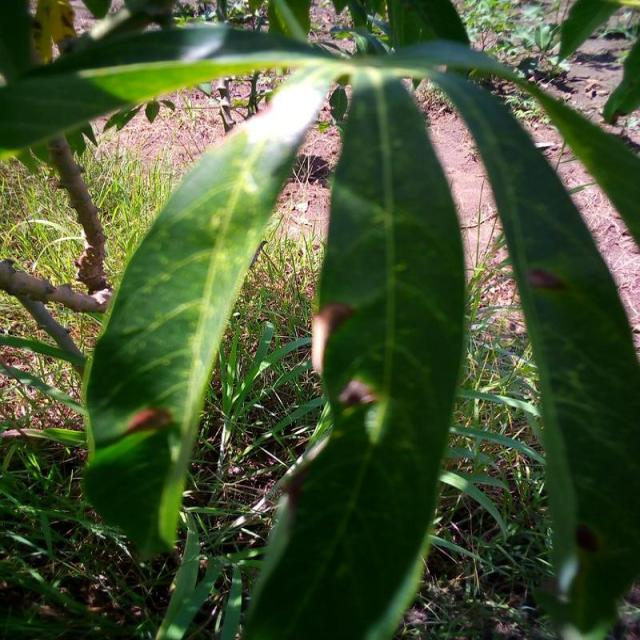cassava leaf: (241, 65, 467, 638), (79, 68, 330, 560)
